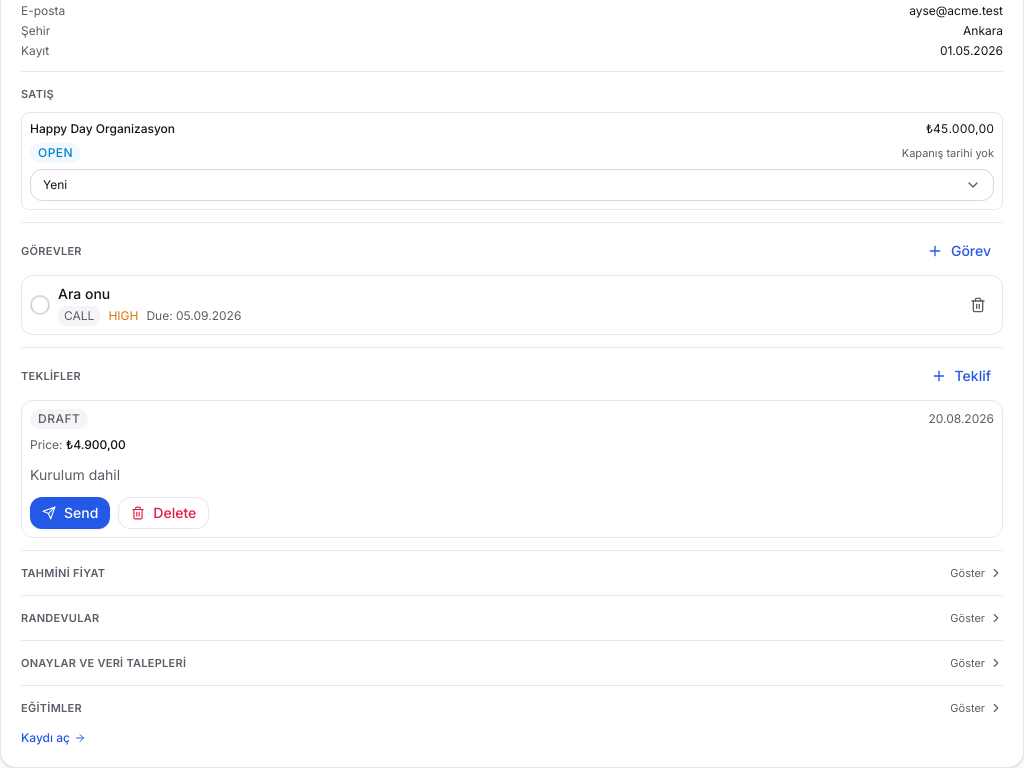
Scenario: LeadContextPane — the consents and courses sections › reads THIS person’s enrolments, and only once opened
(page scrolled)
Click the button "Eğitimler Göster".
click(51, 708)  # box [21, 698, 1003, 718]
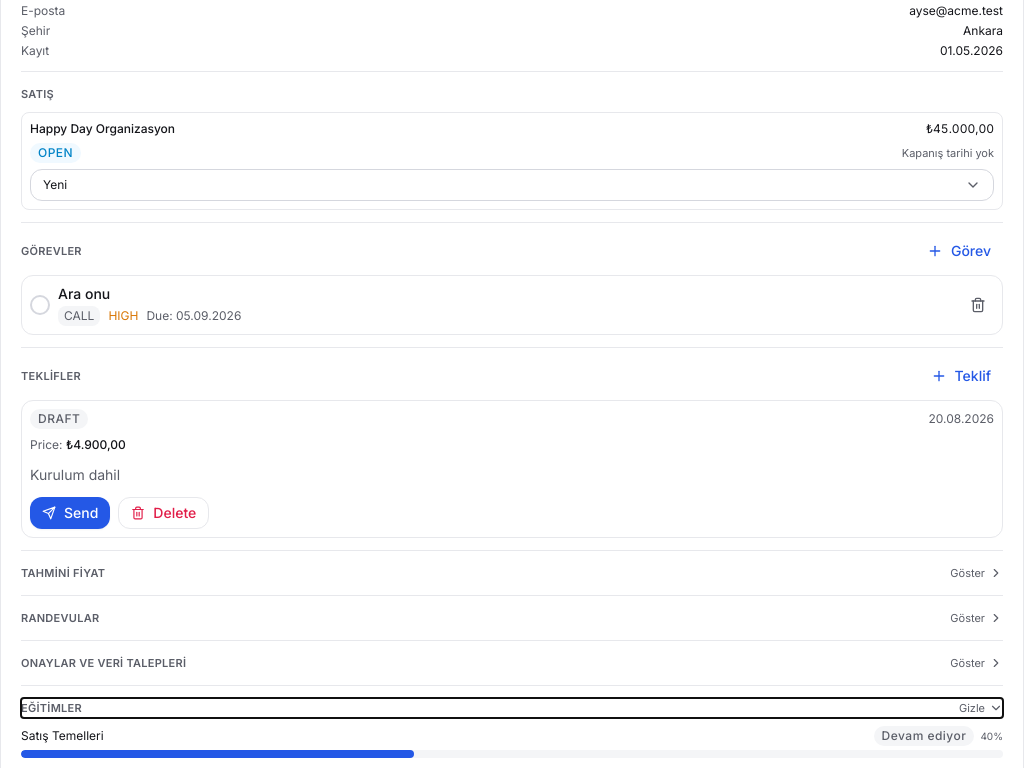
Now the text "Satış Temelleri" is shown, box [21, 728, 104, 744]
